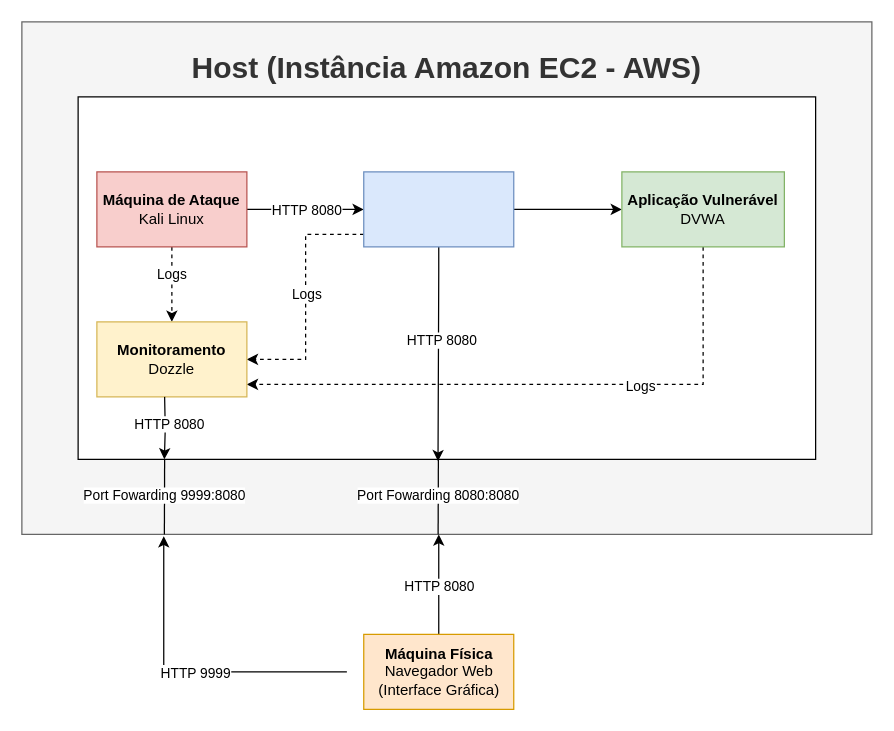
The diagram is 894 pixels wide and 731 high, and some of its shapes have lost their labels. The box of each missing label's shape, as (x1, y1, x2, y2) in pixels:
Rede Docker: (77, 96, 816, 459)
WAF OWASP ModSecurity CRS: (362, 171, 514, 247)
